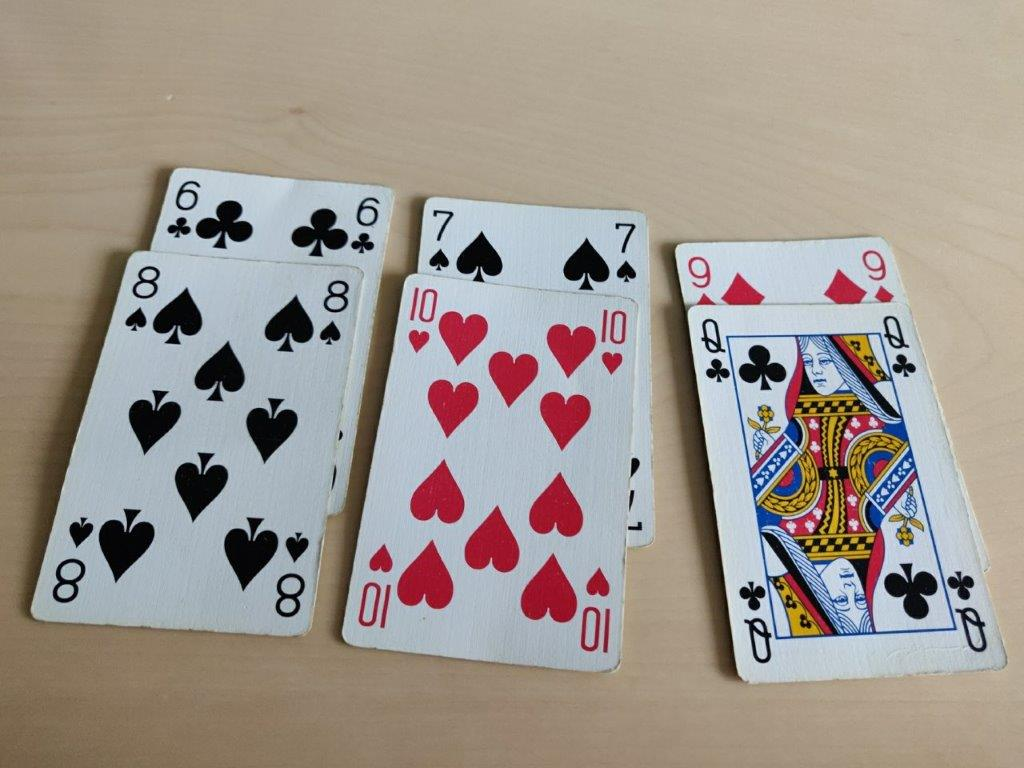10H: (403, 283, 441, 355), (594, 305, 632, 377)
6C: (165, 175, 201, 241), (349, 191, 385, 257)
7S: (427, 207, 455, 273), (613, 219, 641, 285)
8S: (118, 262, 162, 336), (312, 275, 351, 350)
9D: (858, 246, 896, 304), (683, 253, 719, 310)
QC: (697, 312, 737, 389), (878, 312, 918, 389)
